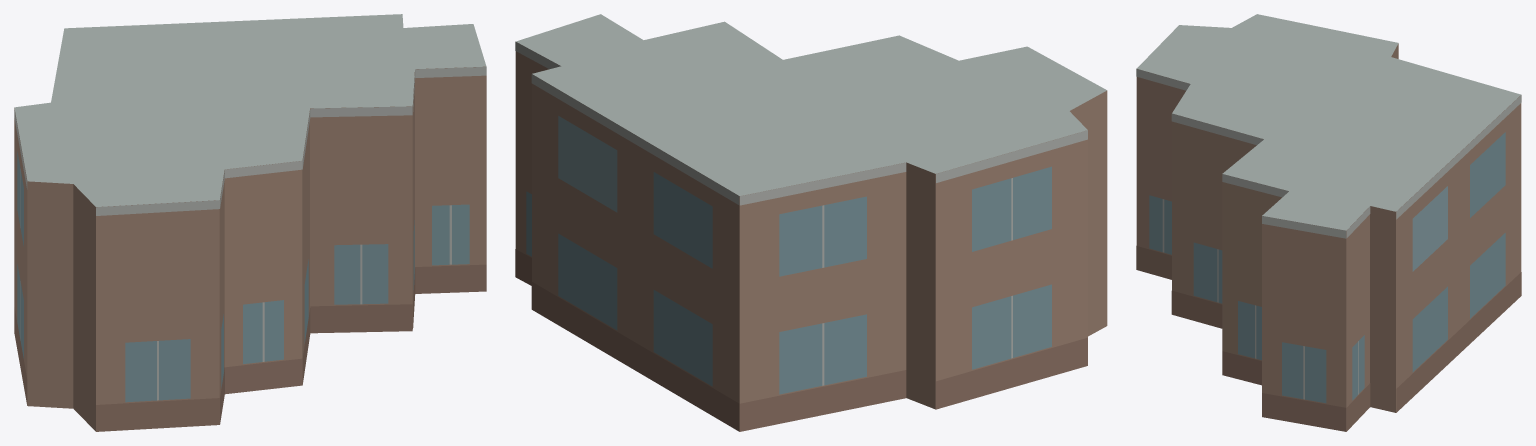
Rendered from survey-upis-32534722.glb.
The picture shows the model from 3 angles, left to right: view 1: azimuth 30°, elevation 25°; view 2: azimuth 150°, elevation 25°; view 3: azimuth 270°, elevation 25°; orthographic projection. The views are drawn at different scales.
Parts seen in each view (by area): view 1: survey-upis-32534722.tmp; view 2: survey-upis-32534722.tmp; view 3: survey-upis-32534722.tmp.
Part boxes in pixels (x1=…): survey-upis-32534722.tmp: x1=14, y1=14, x2=486, y2=431; survey-upis-32534722.tmp: x1=515, y1=14, x2=1107, y2=431; survey-upis-32534722.tmp: x1=1136, y1=14, x2=1521, y2=431.
Size of the model in its own units: 14.1 by 6.1 by 10.59.
